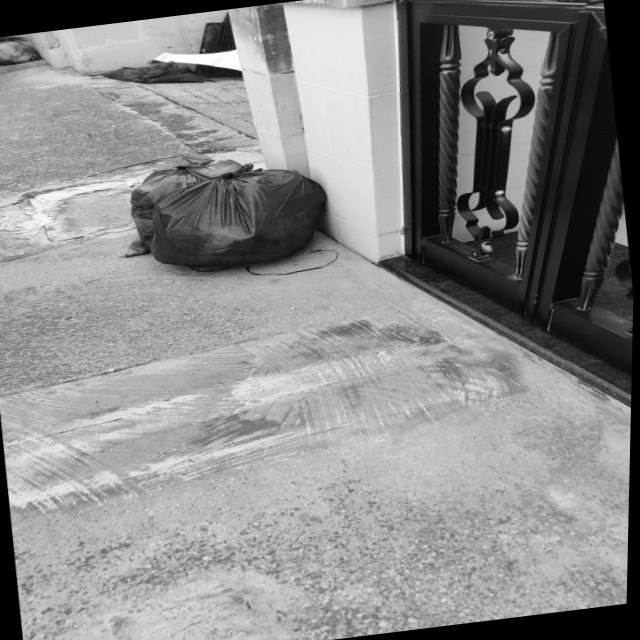Mixed Waste -Black Bags-: (121, 153, 330, 265), (0, 40, 35, 64)
